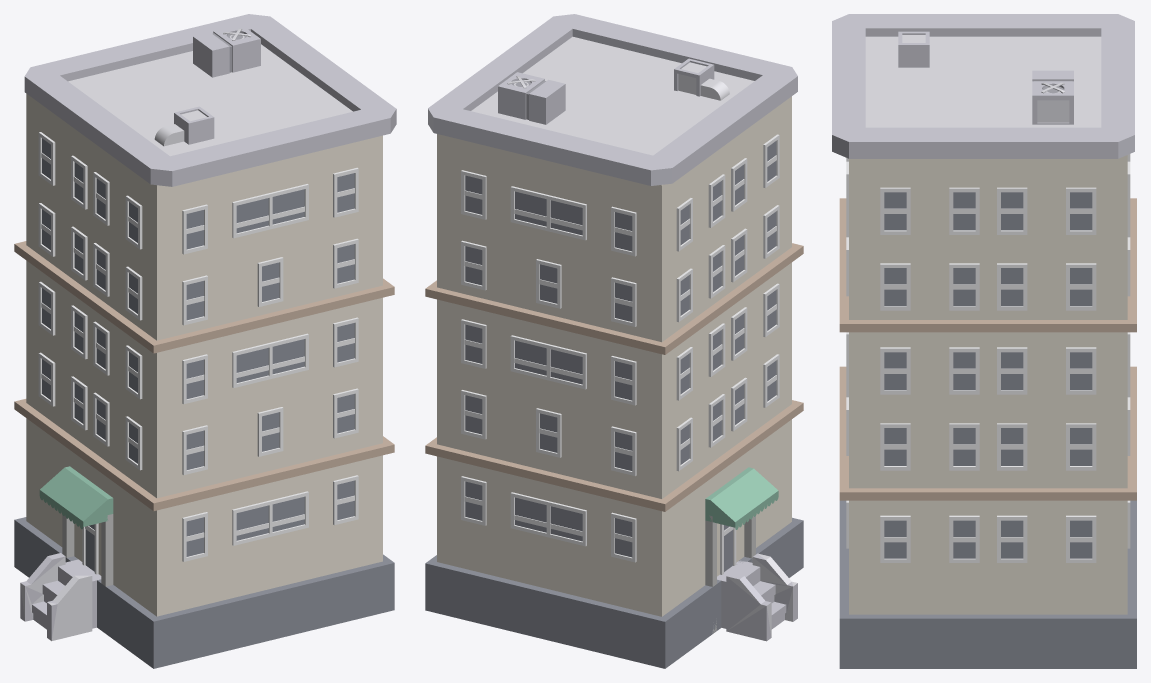
The model's file is housesblock-4.glb.
3 views of the same model, side by side, from view 1: azimuth 30°, elevation 25°; view 2: azimuth 150°, elevation 25°; view 3: azimuth 270°, elevation 25° (orthographic). The views are drawn at different scales.
Visible parts, largest first — view 1: house3.001; view 2: house3.001; view 3: house3.001.
Boxes of the visible parts, x1,y1,x2,y2 form: house3.001: (14, 14, 396, 668); house3.001: (425, 14, 803, 668); house3.001: (832, 14, 1136, 668).
Bounding box in the file's own units: 0.3296 × 0.5516 × 0.2759.
